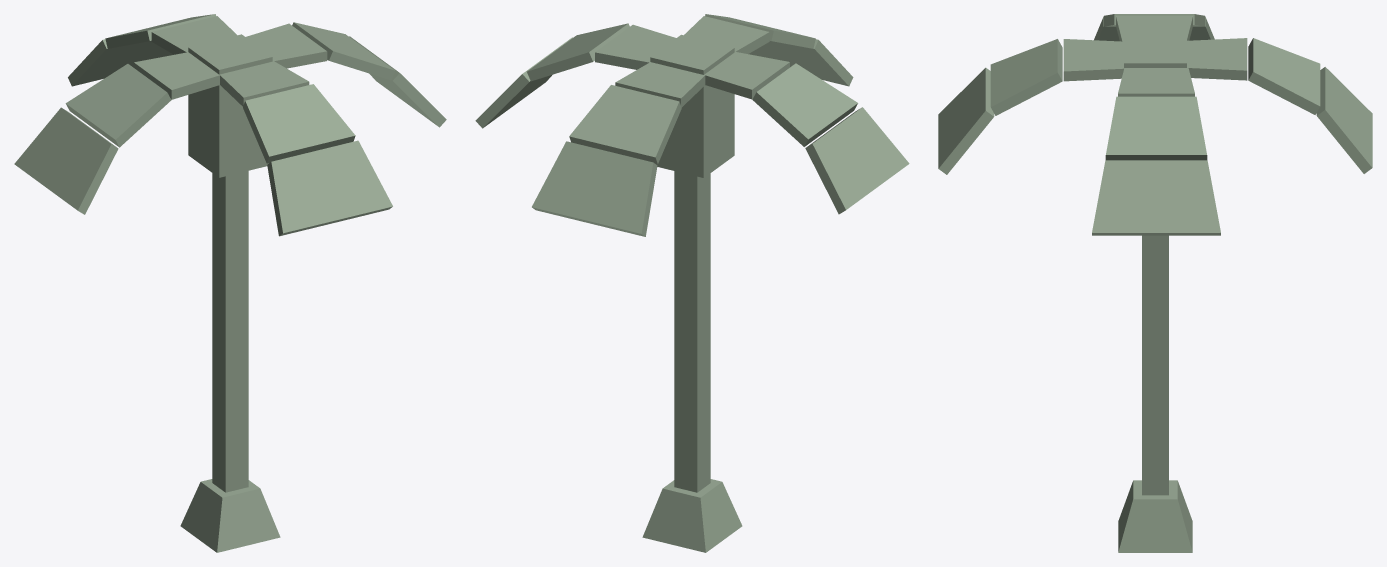
File: palm_02.fbx
3 views of the same model, side by side, from view 1: azimuth 30°, elevation 25°; view 2: azimuth 150°, elevation 25°; view 3: azimuth 270°, elevation 25° (orthographic).
Visible parts, largest first — view 1: palm_02; view 2: palm_02; view 3: palm_02.
Part boxes in pixels (x1,y1,x2,y2): palm_02: (14, 14, 446, 552); palm_02: (475, 14, 909, 552); palm_02: (938, 14, 1372, 552).
Bounding box in the file's own units: 6.22 × 7.7 × 6.22.
